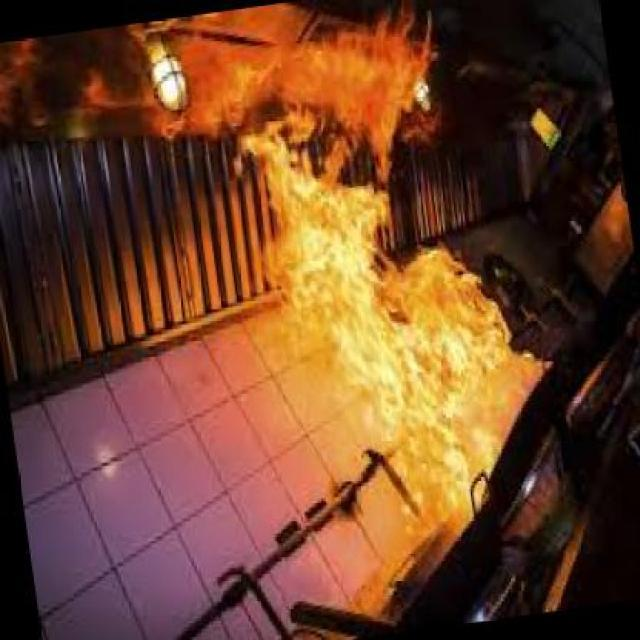Fire: (235, 132, 500, 542), (18, 22, 440, 176)
